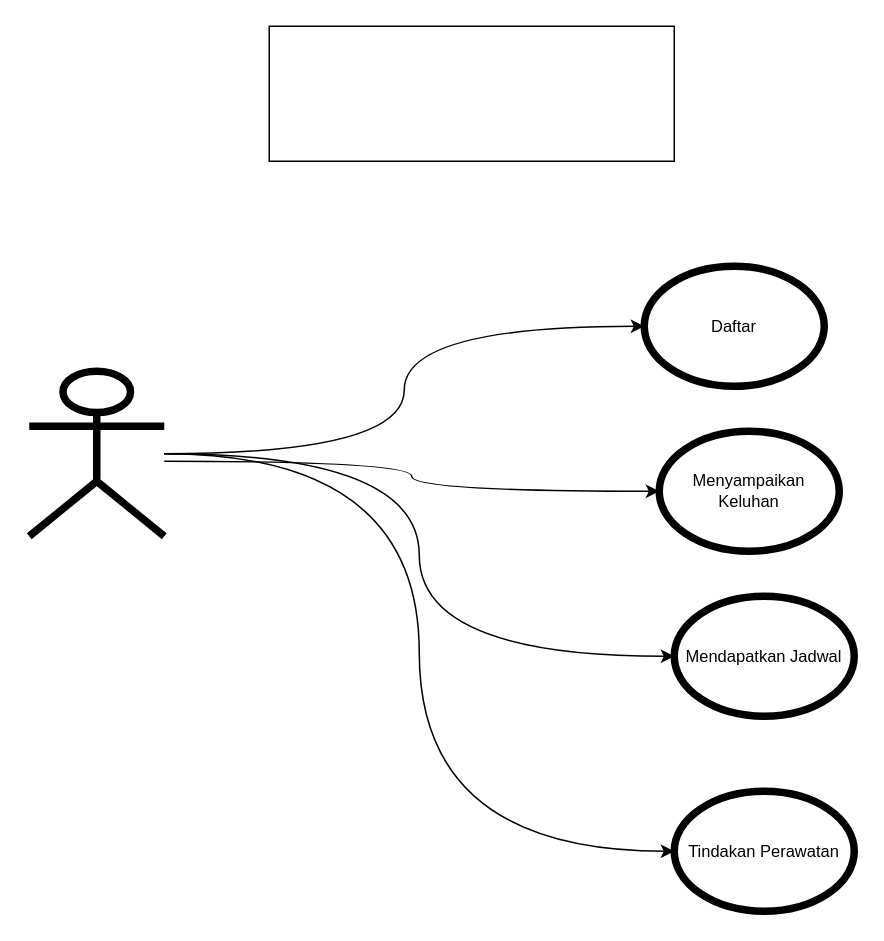
This 884x941 diagram has some shape labels left out. The box of each missing label's shape, as (x1, y1, x2, y2) in pixels:
Studi Kasus Klinik Dokter Gigi: (268, 25, 674, 161)
User: (25, 367, 167, 539)
